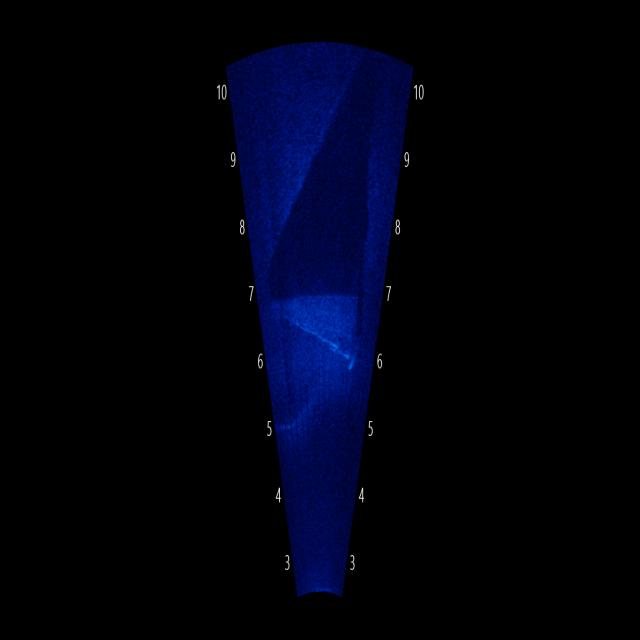triangle: (274, 253, 361, 382)
